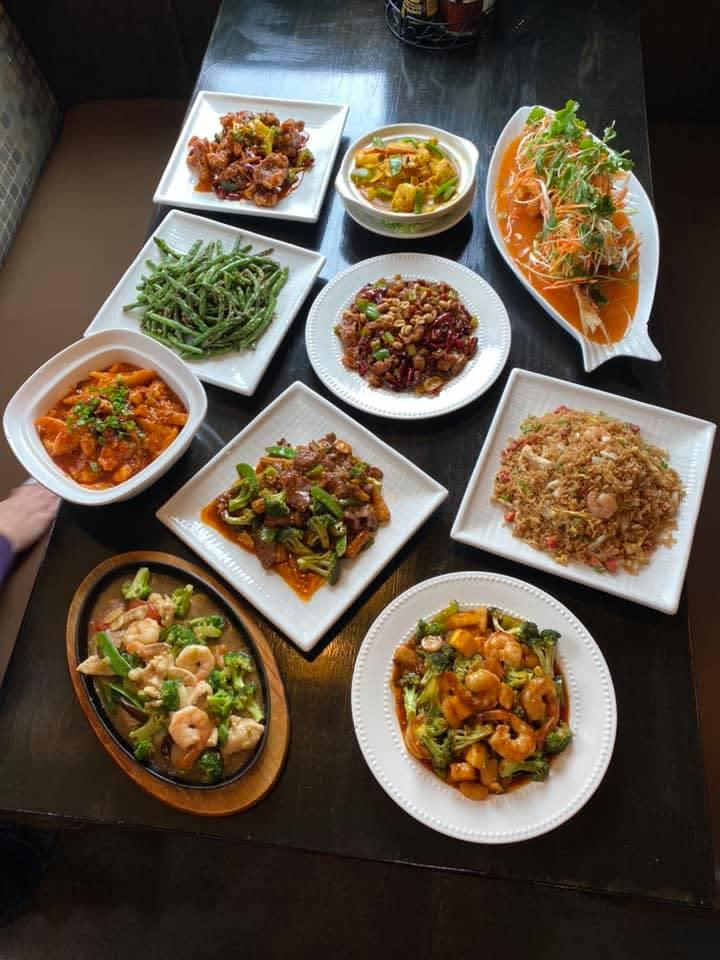Braised Crucian Carp: (154, 384, 446, 647), (348, 571, 614, 844), (448, 372, 713, 611), (483, 104, 666, 370), (105, 191, 312, 391), (78, 569, 267, 788), (0, 329, 204, 501), (303, 253, 509, 417), (152, 91, 350, 223), (334, 121, 480, 234)
